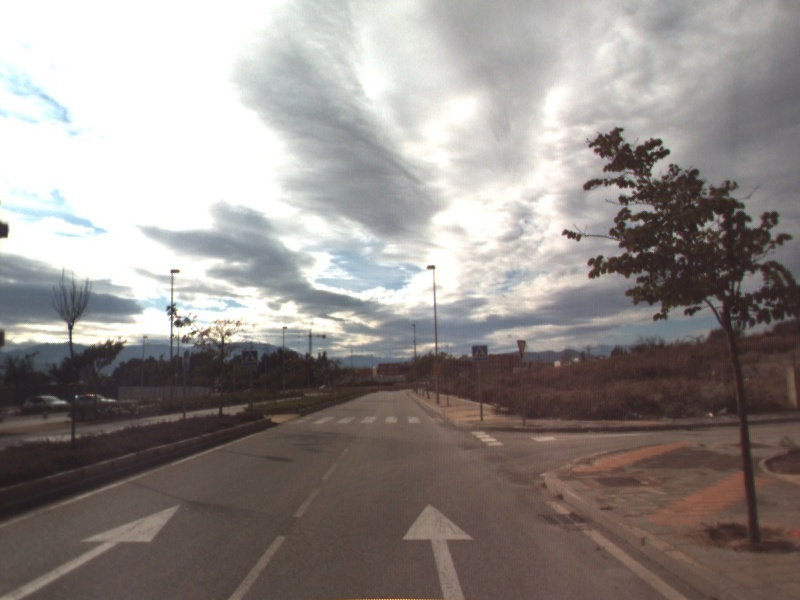STRAIGHT: (1, 502, 183, 600), (399, 501, 478, 600)
